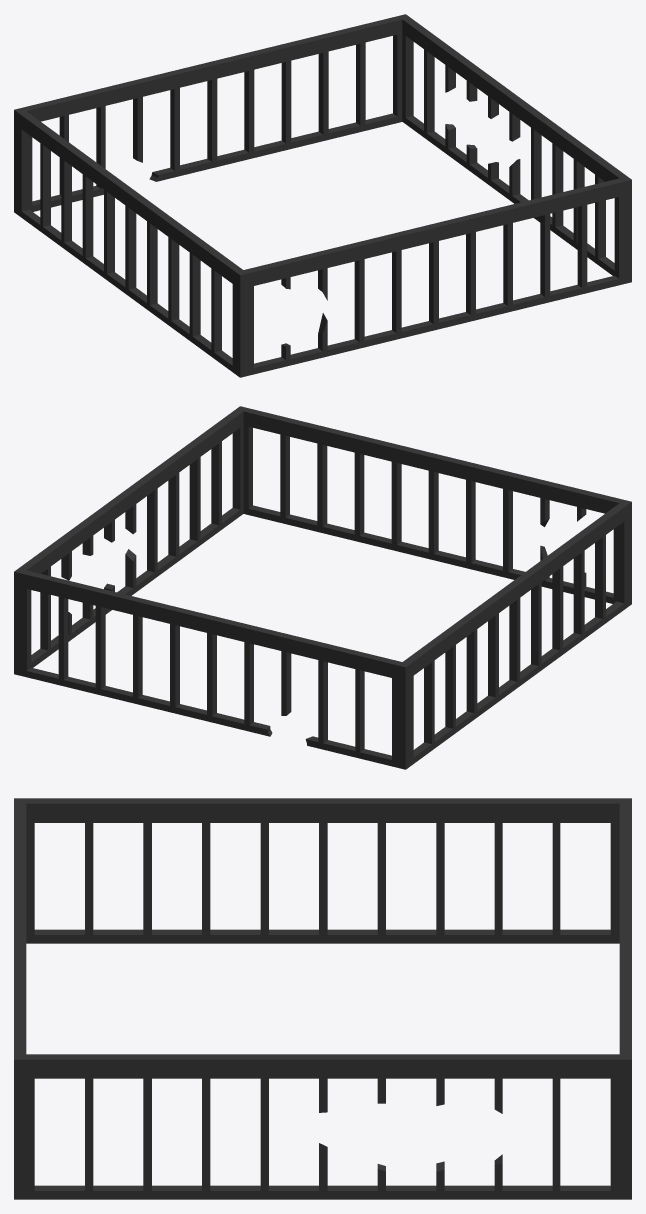
Rendered from OfficeSideDamaged.glb.
3 renders of one model, top to bottom at view 1: azimuth 30°, elevation 25°; view 2: azimuth 150°, elevation 25°; view 3: azimuth 270°, elevation 25°, orthographic. The views are drawn at different scales.
Visible parts, largest first — view 1: LightDamageOffice-col; view 2: LightDamageOffice-col; view 3: LightDamageOffice-col.
Boxes of the visible parts, left/top/right/bottom form: LightDamageOffice-col: left=14, top=14, right=631, bottom=377; LightDamageOffice-col: left=14, top=406, right=631, bottom=769; LightDamageOffice-col: left=14, top=798, right=631, bottom=1199.
Size of the model in its own units: 64 by 16 by 64.
1 material, 1 textured.
